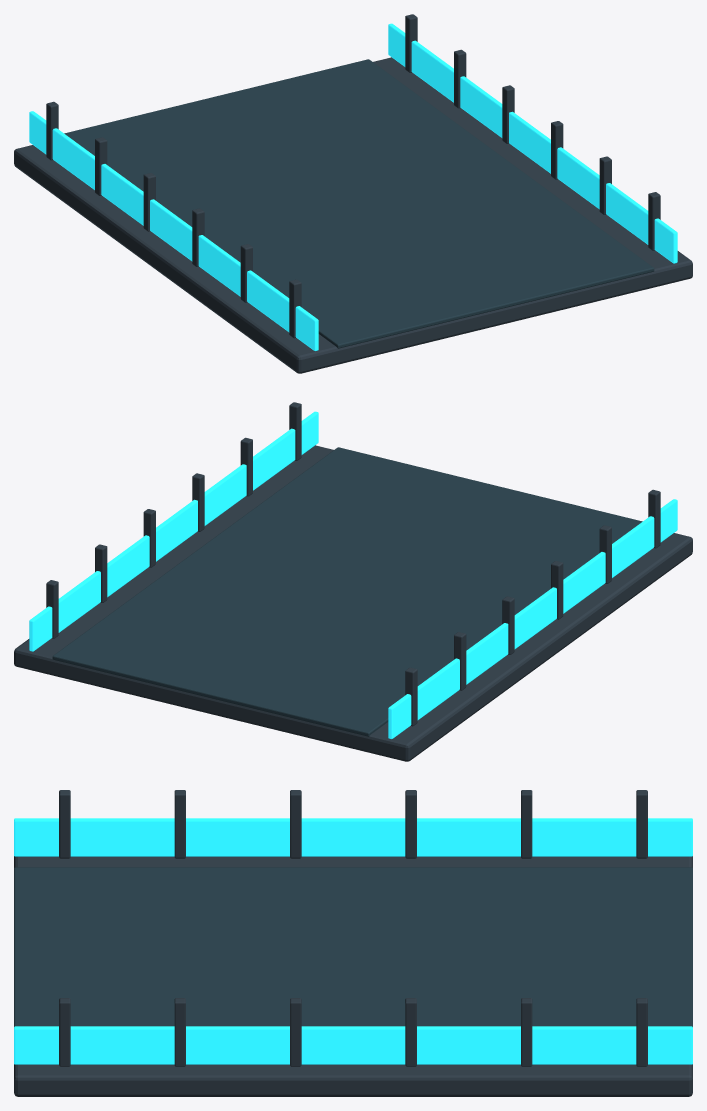
Rendered from bridge_lod0.glb.
The picture shows the model from 3 angles, top to bottom: view 1: azimuth 30°, elevation 25°; view 2: azimuth 150°, elevation 25°; view 3: azimuth 270°, elevation 25°; orthographic projection. The views are drawn at different scales.
Parts seen in each view (by area): view 1: ND_Batch_ND_WetAsphalt, ND_Batch_ND_RooftopMetal, ND_Batch_ND_CityCyanMuted; view 2: ND_Batch_ND_WetAsphalt, ND_Batch_ND_RooftopMetal, ND_Batch_ND_CityCyanMuted; view 3: ND_Batch_ND_WetAsphalt, ND_Batch_ND_CityCyanMuted, ND_Batch_ND_RooftopMetal.
Part boxes in pixels (left/top/right/bottom): ND_Batch_ND_WetAsphalt: left=64, top=59, right=654, bottom=348; ND_Batch_ND_RooftopMetal: left=14, top=14, right=692, bottom=373; ND_Batch_ND_CityCyanMuted: left=29, top=23, right=677, bottom=350; ND_Batch_ND_WetAsphalt: left=52, top=447, right=642, bottom=736; ND_Batch_ND_RooftopMetal: left=14, top=402, right=692, bottom=761; ND_Batch_ND_CityCyanMuted: left=29, top=411, right=677, bottom=738; ND_Batch_ND_WetAsphalt: left=14, top=867, right=692, bottom=1026; ND_Batch_ND_CityCyanMuted: left=14, top=818, right=692, bottom=1064; ND_Batch_ND_RooftopMetal: left=14, top=790, right=692, bottom=1096.
Size of the model in its own units: 16 by 2.85 by 20.
